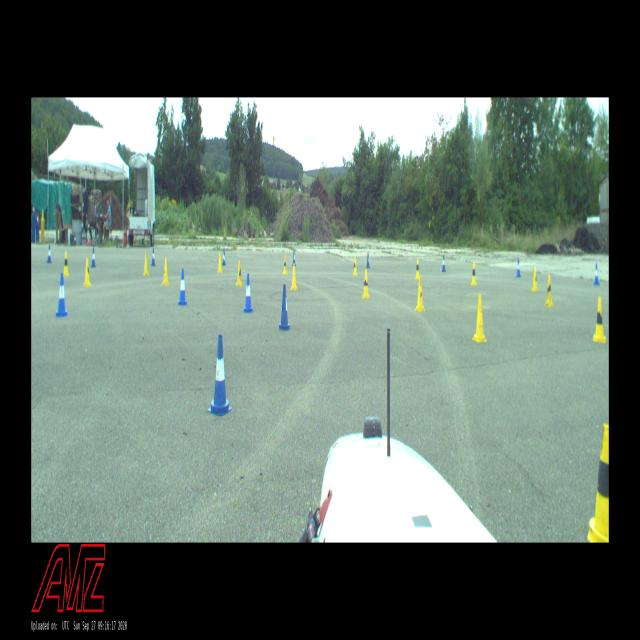blue_cone: (208, 335, 232, 416), (279, 284, 290, 330), (56, 273, 67, 316), (178, 269, 187, 305), (244, 274, 252, 312), (593, 263, 600, 284), (46, 245, 52, 263), (91, 248, 96, 267), (516, 259, 521, 277), (151, 248, 155, 266), (442, 256, 446, 272), (292, 250, 296, 266), (366, 252, 370, 268), (222, 250, 226, 265)
yellow_cone: (588, 425, 608, 542), (472, 294, 487, 342), (593, 296, 606, 344), (415, 276, 425, 312), (544, 274, 554, 306), (362, 269, 370, 298), (84, 258, 90, 286), (162, 258, 168, 285), (291, 264, 297, 289), (236, 261, 242, 285), (532, 267, 538, 291), (143, 253, 149, 276), (63, 252, 69, 275), (471, 262, 477, 284), (416, 258, 420, 279), (353, 256, 357, 275), (283, 255, 287, 274), (218, 254, 222, 273)
